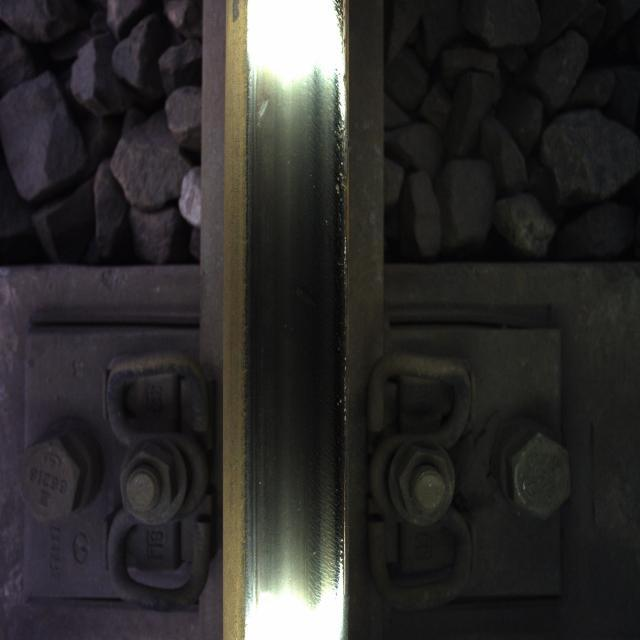break: (246, 50, 326, 591)
